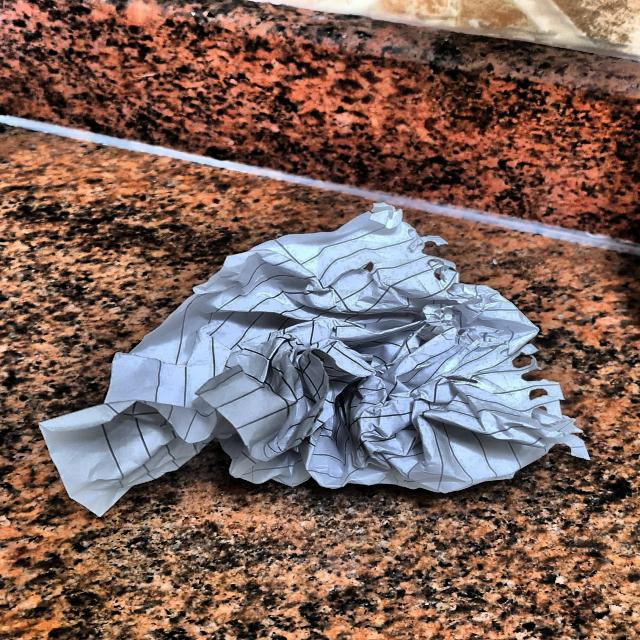paper: (36, 195, 592, 522)
